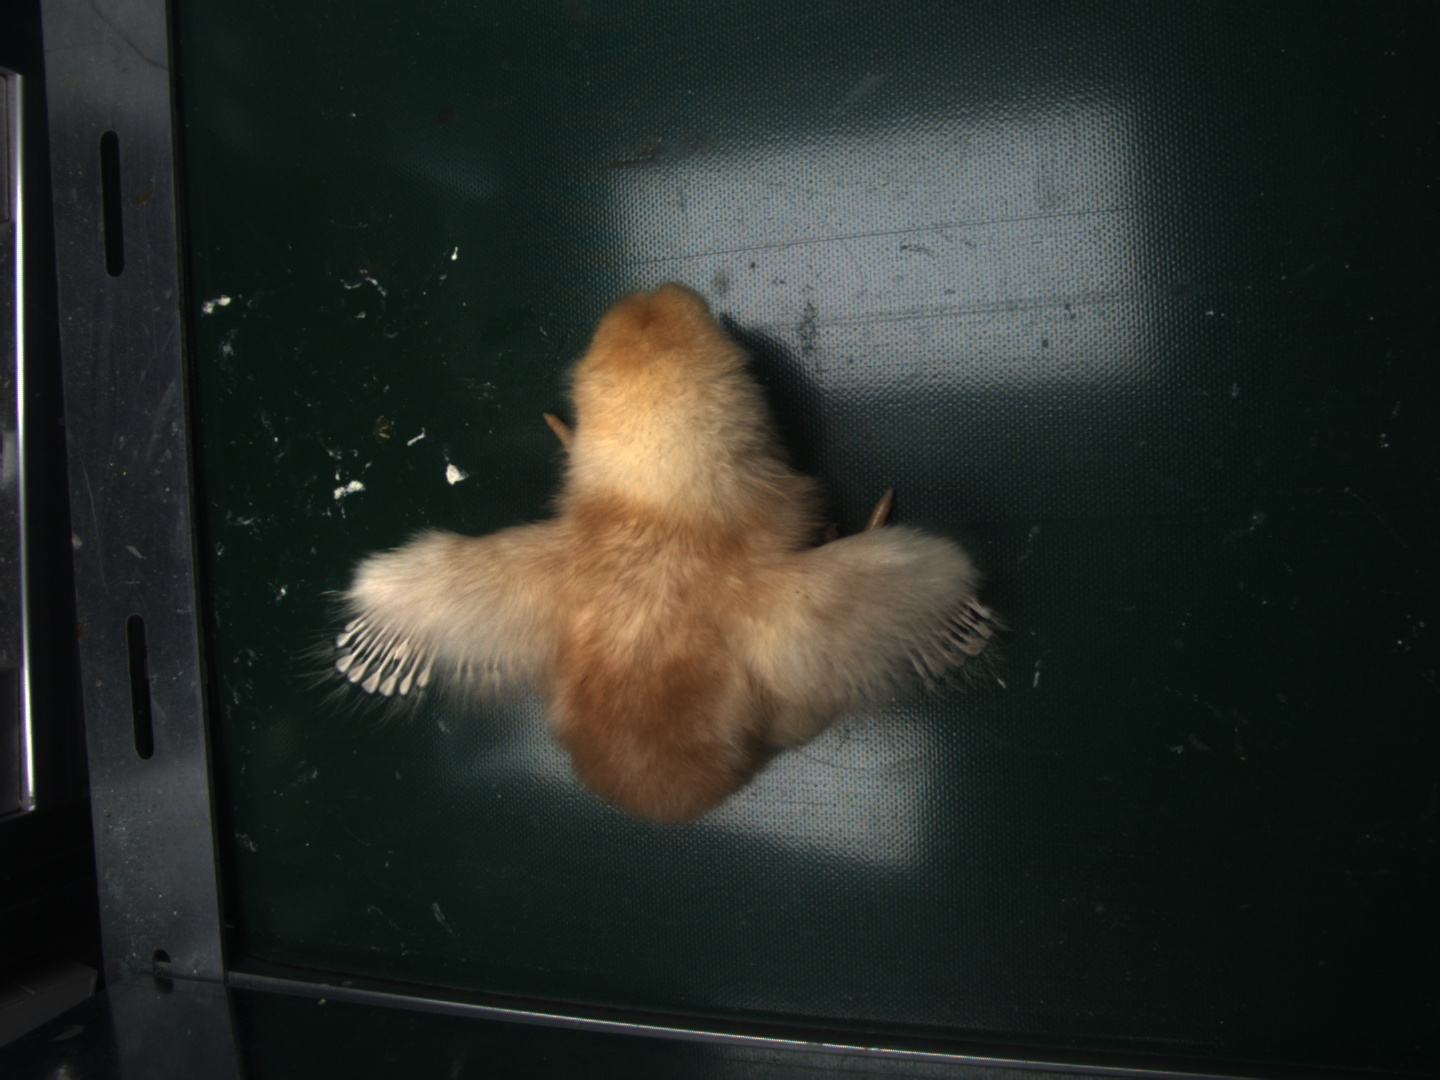female: (330, 613, 429, 698)
